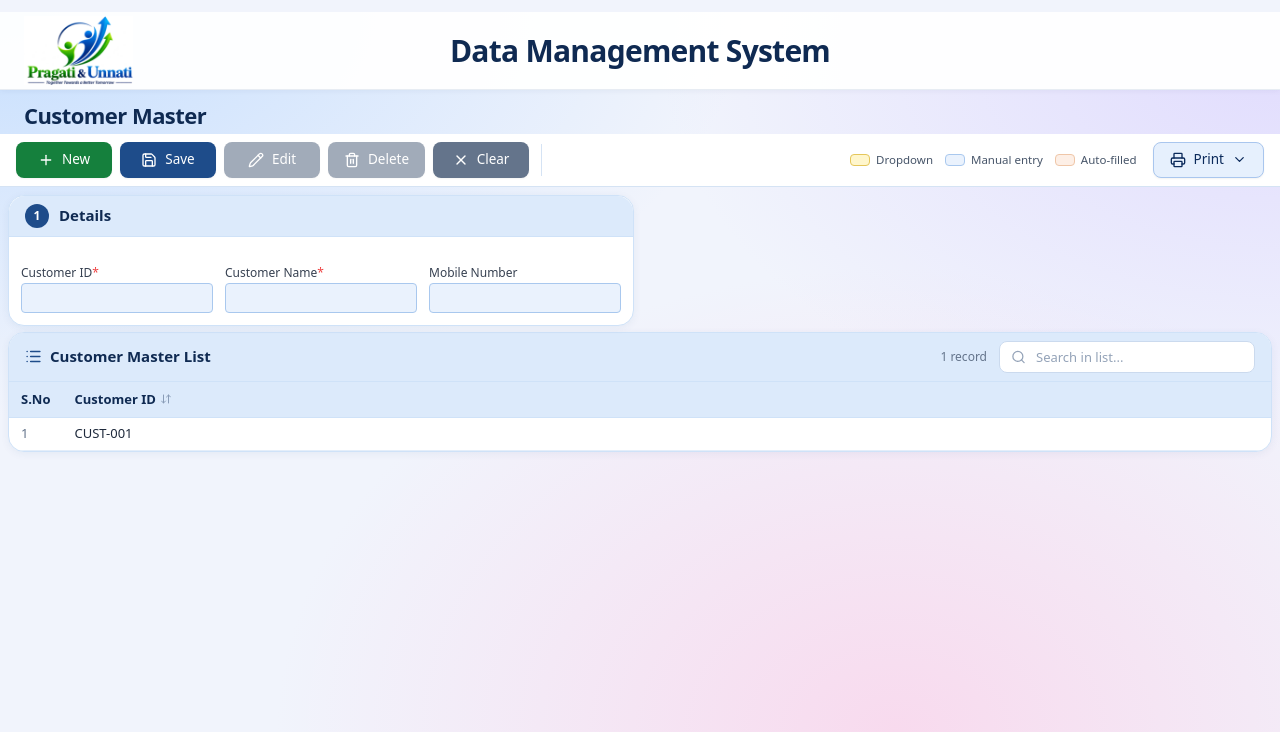
field highlight › duplicate code highlights the ID field
Expected: the text "CUST-001" is shown, [62, 418, 1271, 450]
Type " cust-001 " into the field labelled "Customer ID *" at (117, 298), box [21, 282, 213, 312]
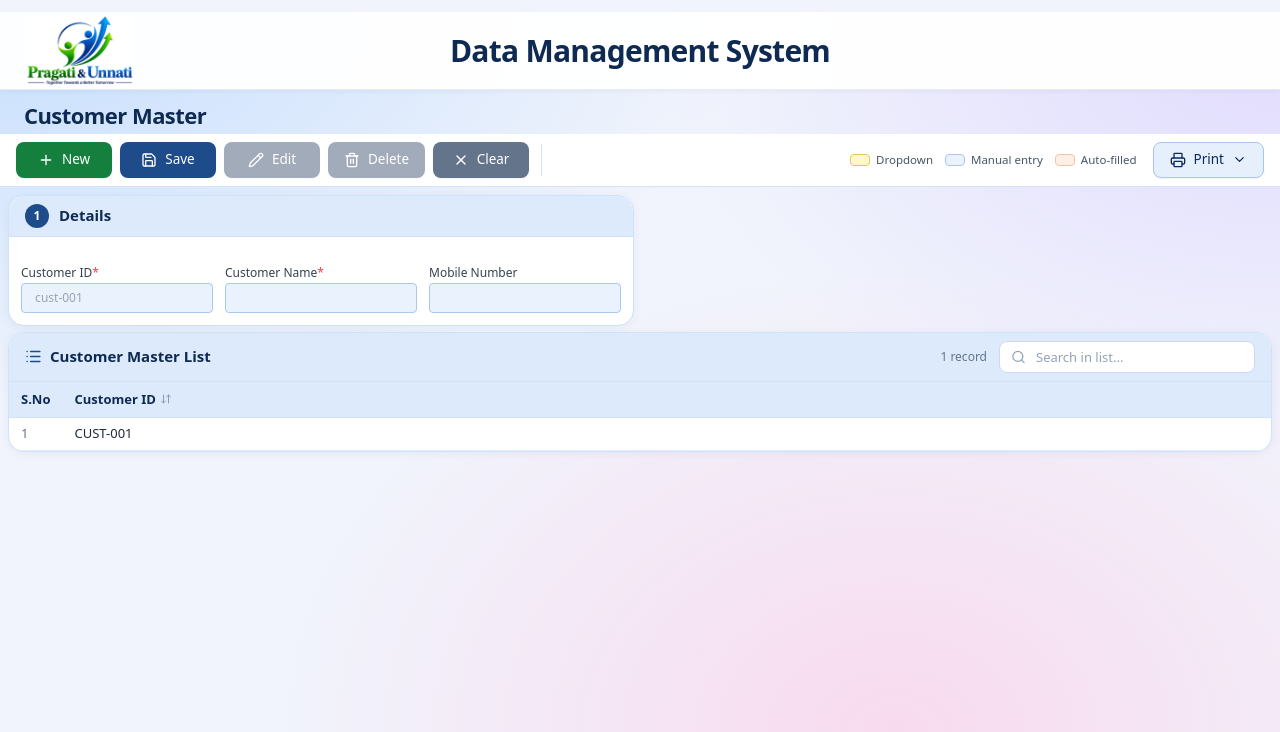
Type "Dup" into the field labelled "Customer Name *" at (321, 298), box [225, 282, 417, 312]
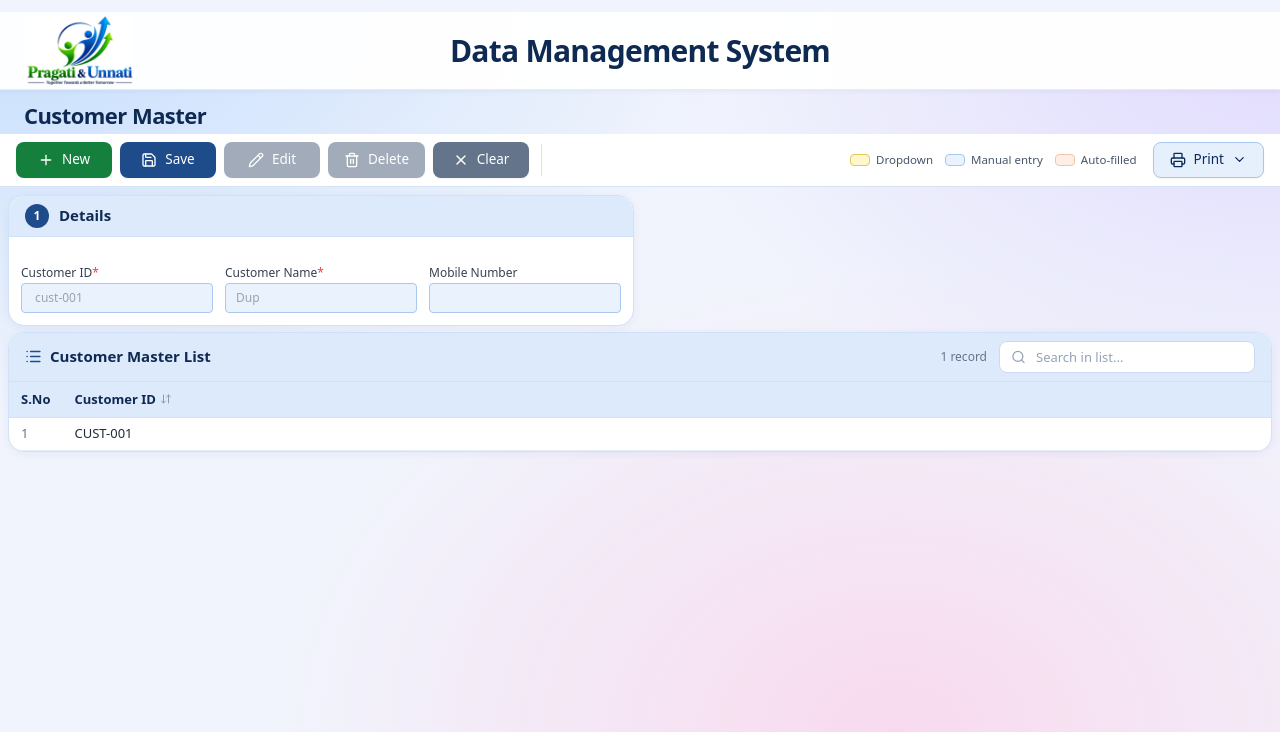
Click the button "Save" at (168, 160), box [120, 142, 216, 178]
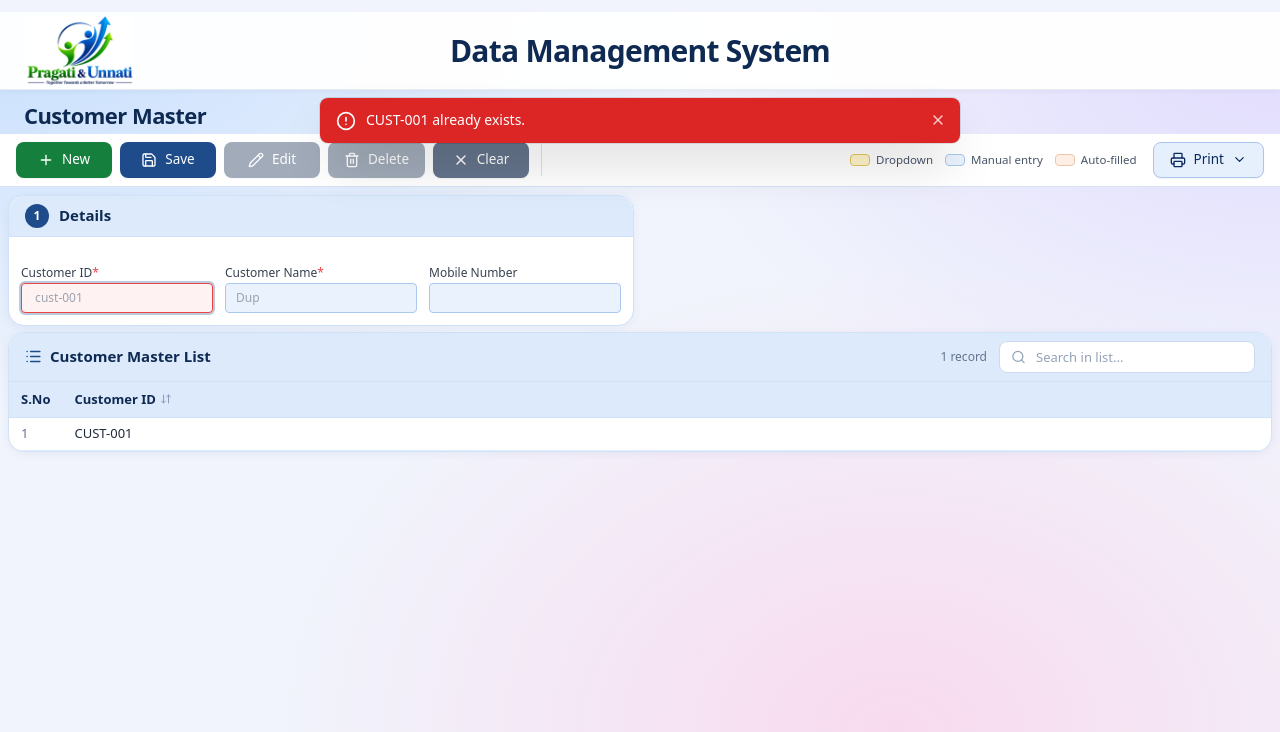
Now the message shows "already exists", box [366, 110, 525, 129]
